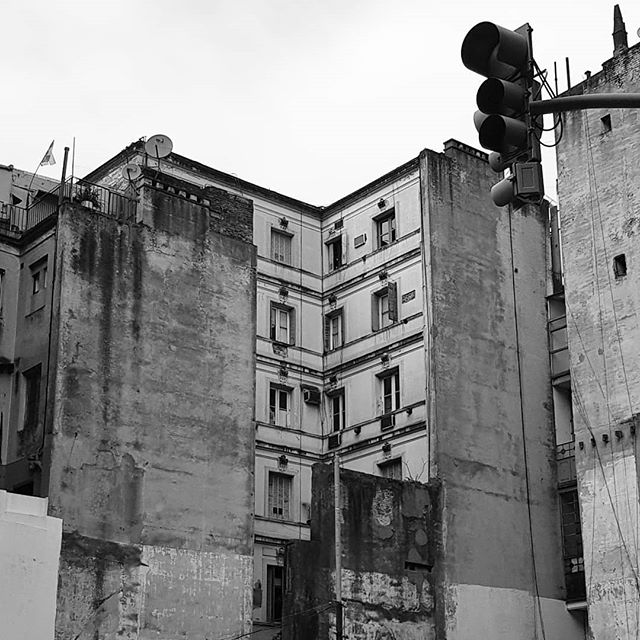building: (141, 147, 562, 640), (1, 184, 264, 640), (557, 72, 640, 640)
sky: (1, 1, 527, 150)
